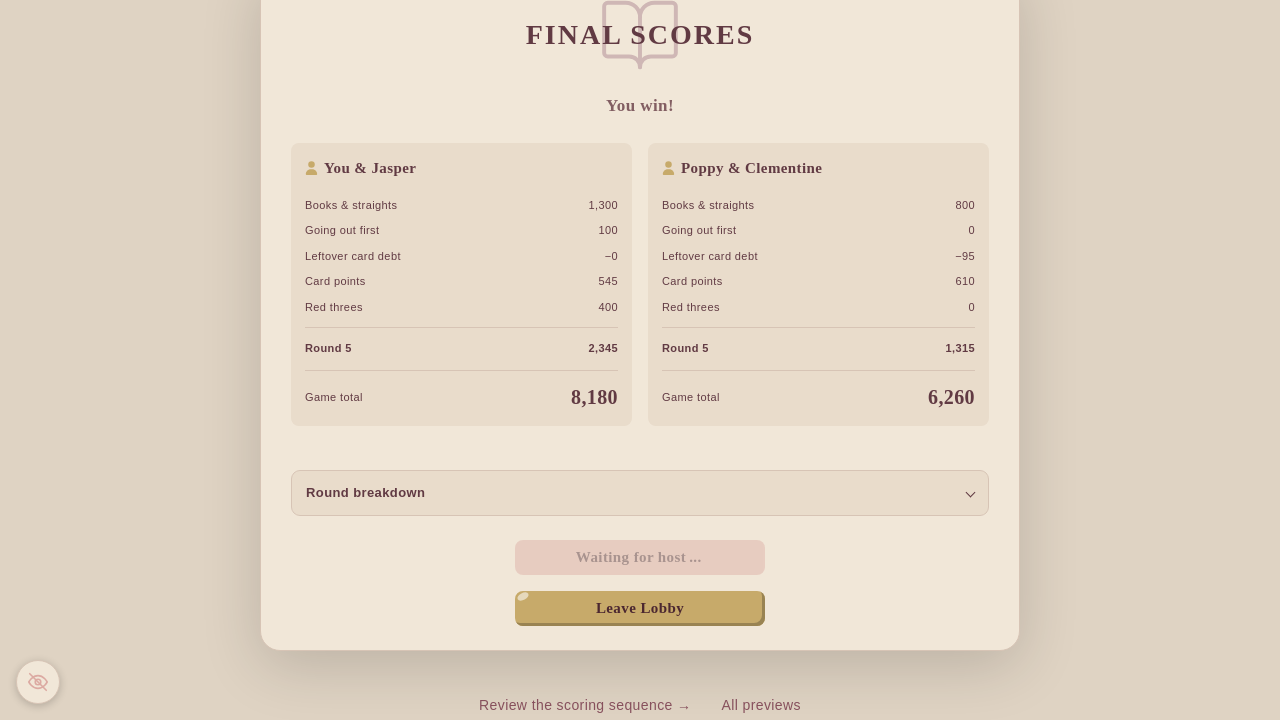
previews the host tooltip, leave action, and hide/show eye
(page scrolled)
Focus the element "Waiting for host": (640, 557) [515,540,765,575]
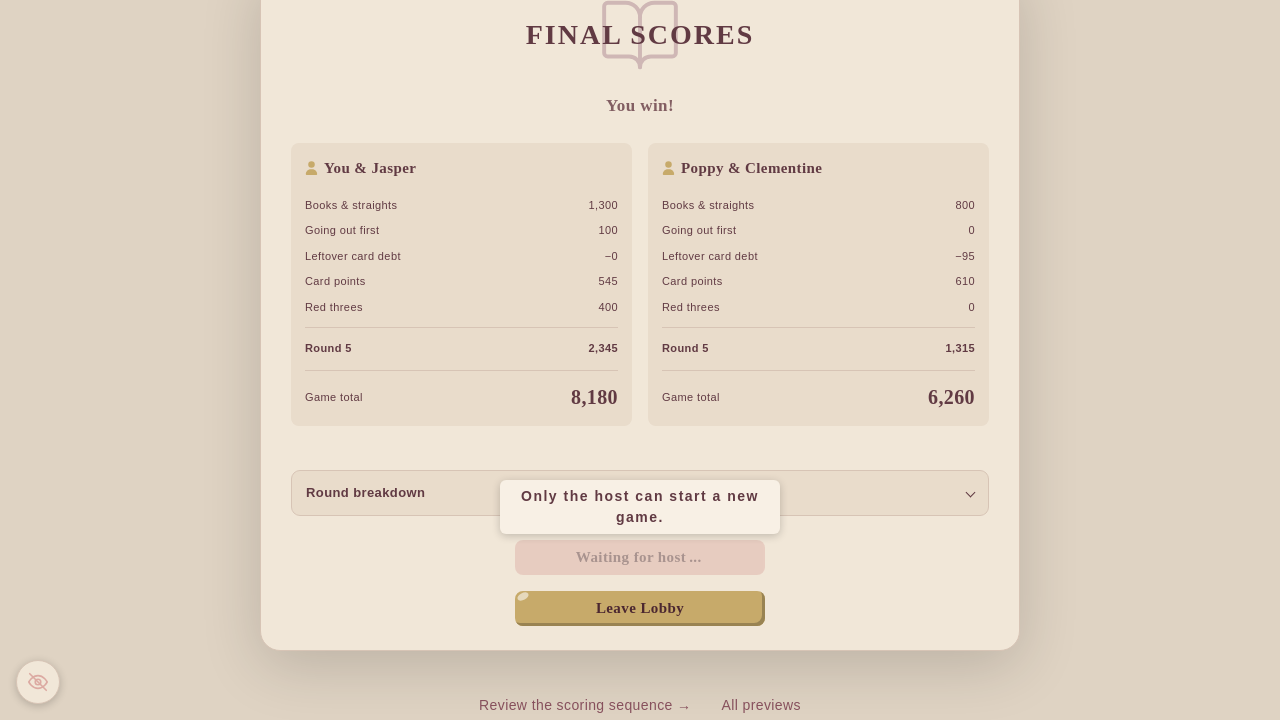
Expected: the tooltip reads "Only the host can start a new game.", [521,488,759,525]
Click the button named "Hide results": (38, 682) [16,660,60,704]
(page scrolled)
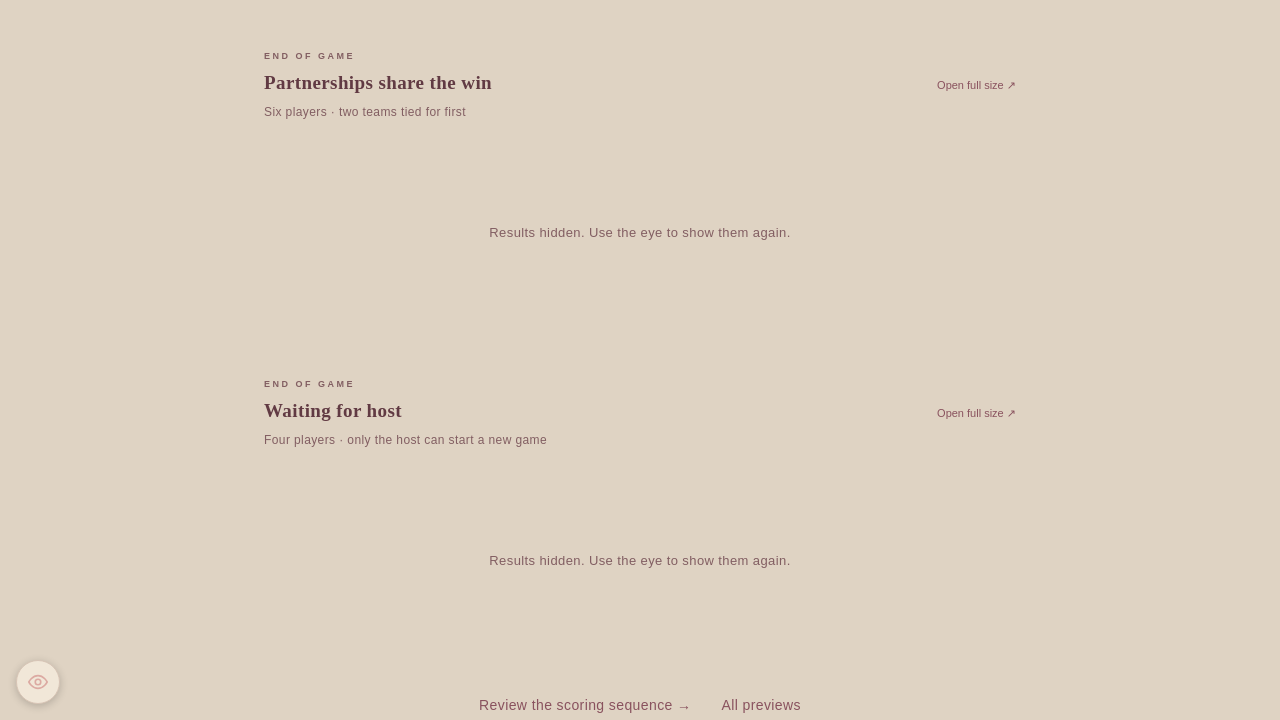
Click the button named "Show results": (38, 682) [16,660,60,704]
(page scrolled)
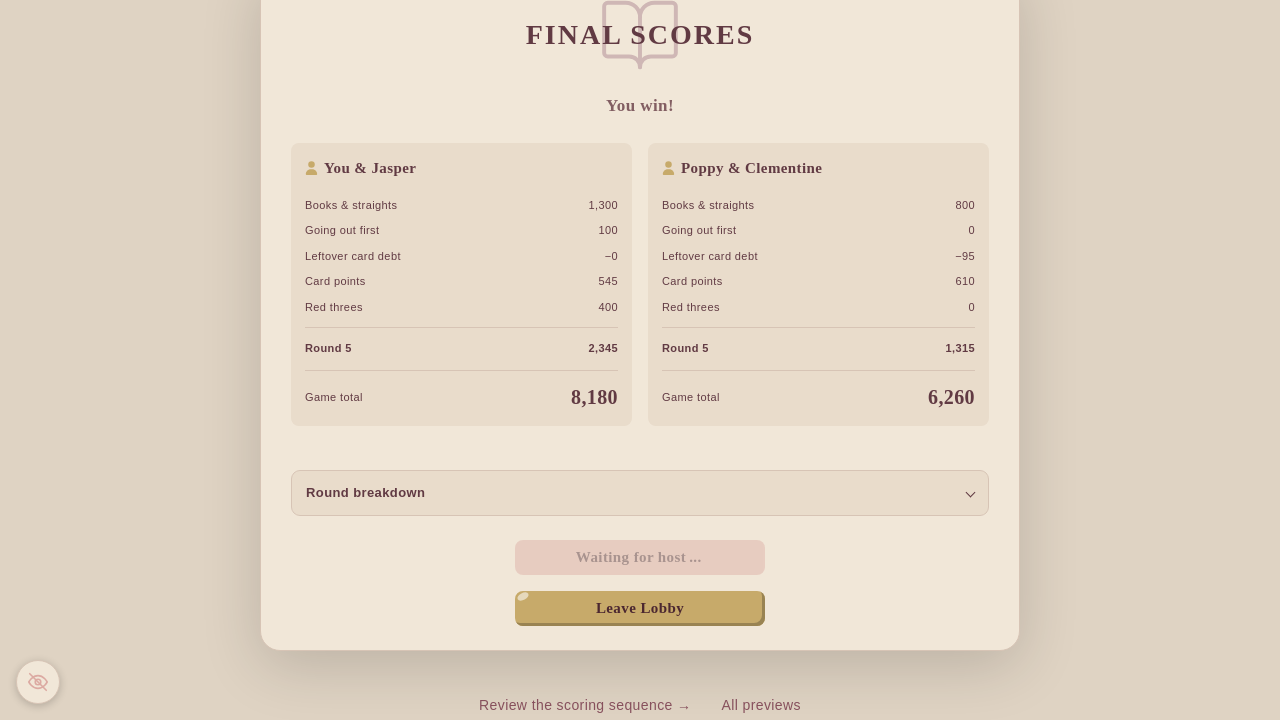
Click the button "Leave Lobby": (640, 608) [515,591,765,626]
(page scrolled)
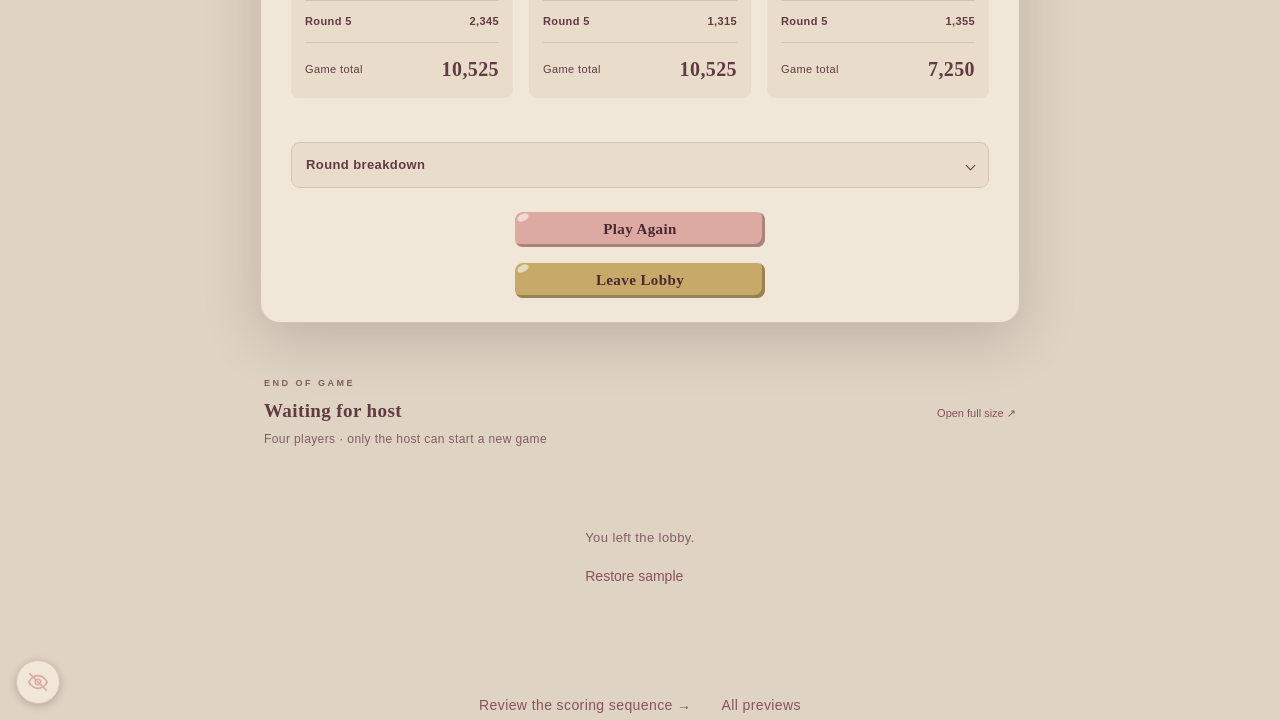
Expected: the text "You left the lobby." is shown, [585,528,695,547]
